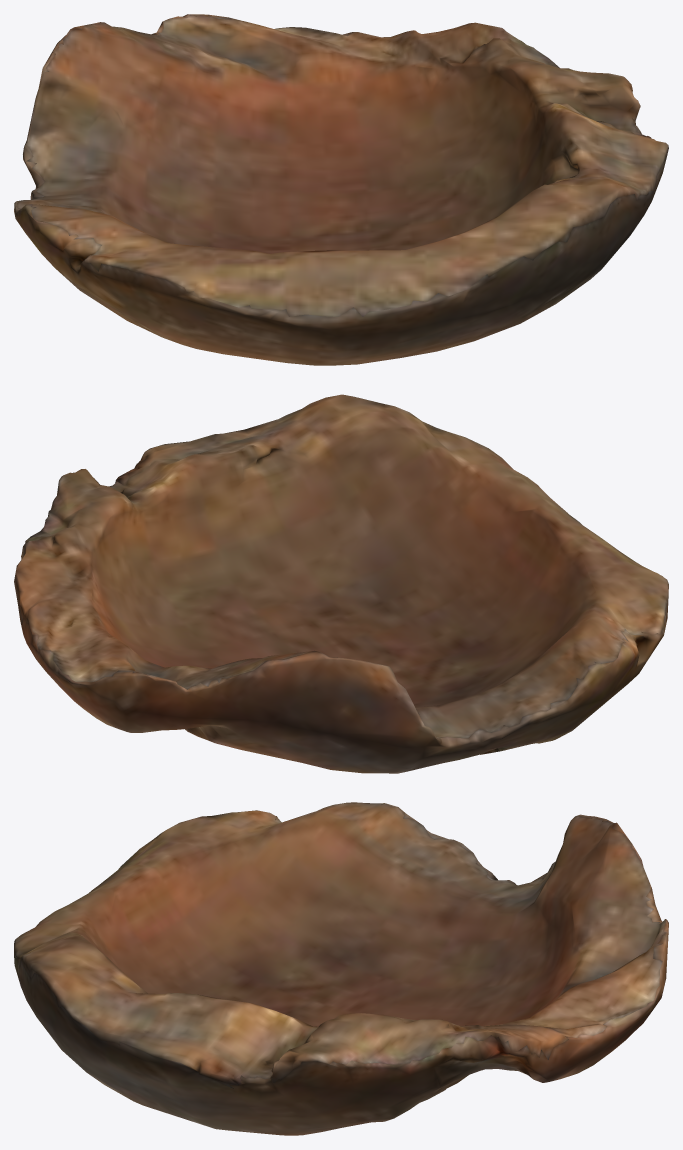
Rendered from wooden_bowl_01.glb.
3 renders of one model, top to bottom at view 1: azimuth 30°, elevation 25°; view 2: azimuth 150°, elevation 25°; view 3: azimuth 270°, elevation 25°, orthographic. The views are drawn at different scales.
Visible parts, largest first — view 1: wooden_bowl_01; view 2: wooden_bowl_01; view 3: wooden_bowl_01.
Boxes of the visible parts, left/top/right/bottom form: wooden_bowl_01: left=14, top=14, right=668, bottom=365; wooden_bowl_01: left=14, top=394, right=668, bottom=773; wooden_bowl_01: left=14, top=802, right=668, bottom=1135.
Bounding box in the file's own units: 0.313 × 0.0937 × 0.3091.
Materials: 1 (1 with a texture image).
